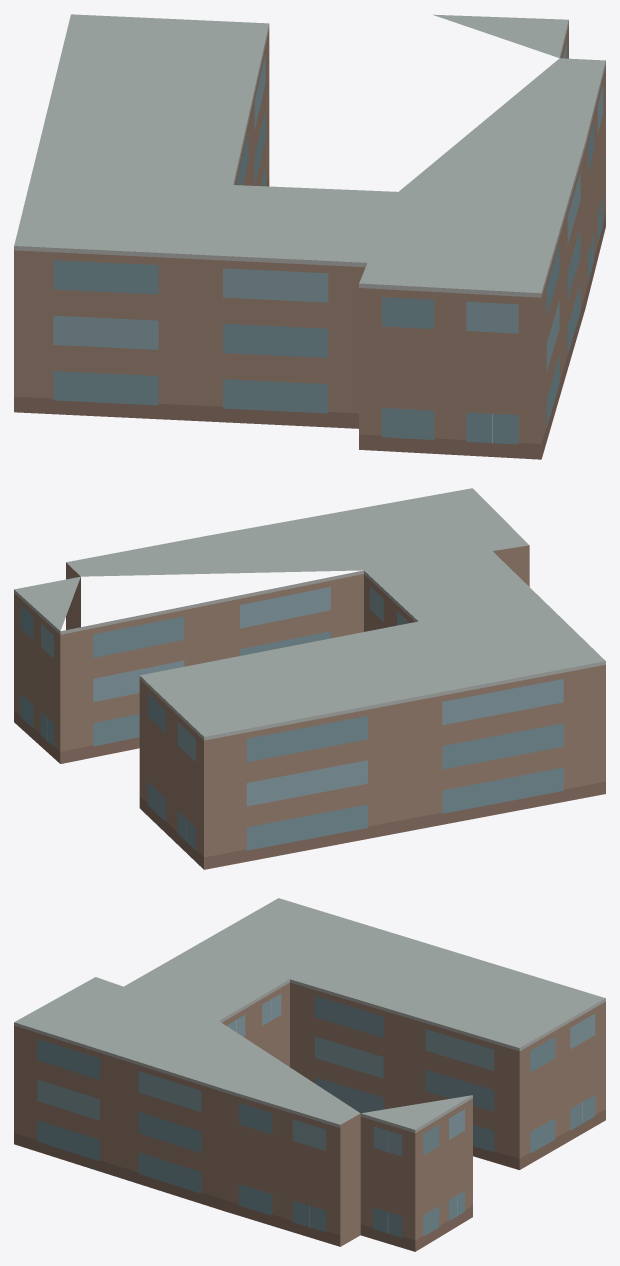
File: survey-upis-32679203.glb
3 views of the same model, one above another, from view 1: azimuth 30°, elevation 25°; view 2: azimuth 150°, elevation 25°; view 3: azimuth 270°, elevation 25° (orthographic). The views are drawn at different scales.
Parts seen in each view (by area): view 1: survey-upis-32679203.tmp; view 2: survey-upis-32679203.tmp; view 3: survey-upis-32679203.tmp.
Part boxes in pixels (bbox=[...]): survey-upis-32679203.tmp: bbox=[14, 14, 605, 459]; survey-upis-32679203.tmp: bbox=[14, 488, 605, 869]; survey-upis-32679203.tmp: bbox=[14, 898, 605, 1251].
Bounding box in the file's own units: 37.31 × 9.15 × 40.25.
